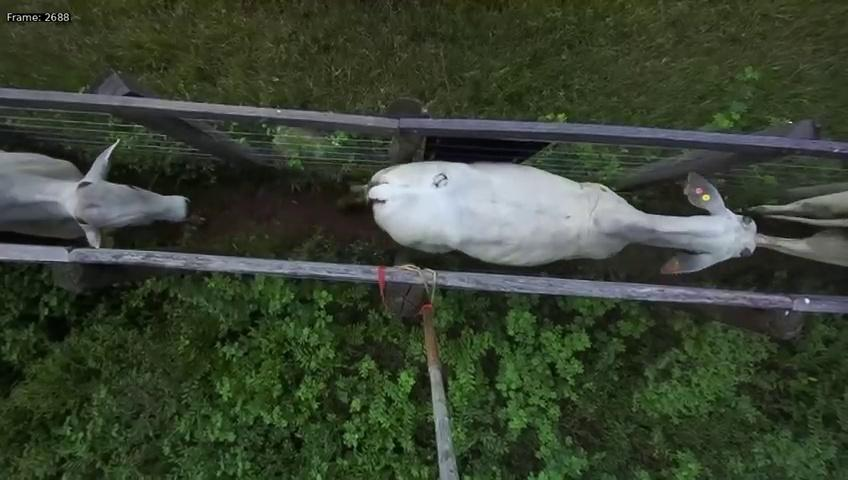cattle: (359, 150, 771, 279)
